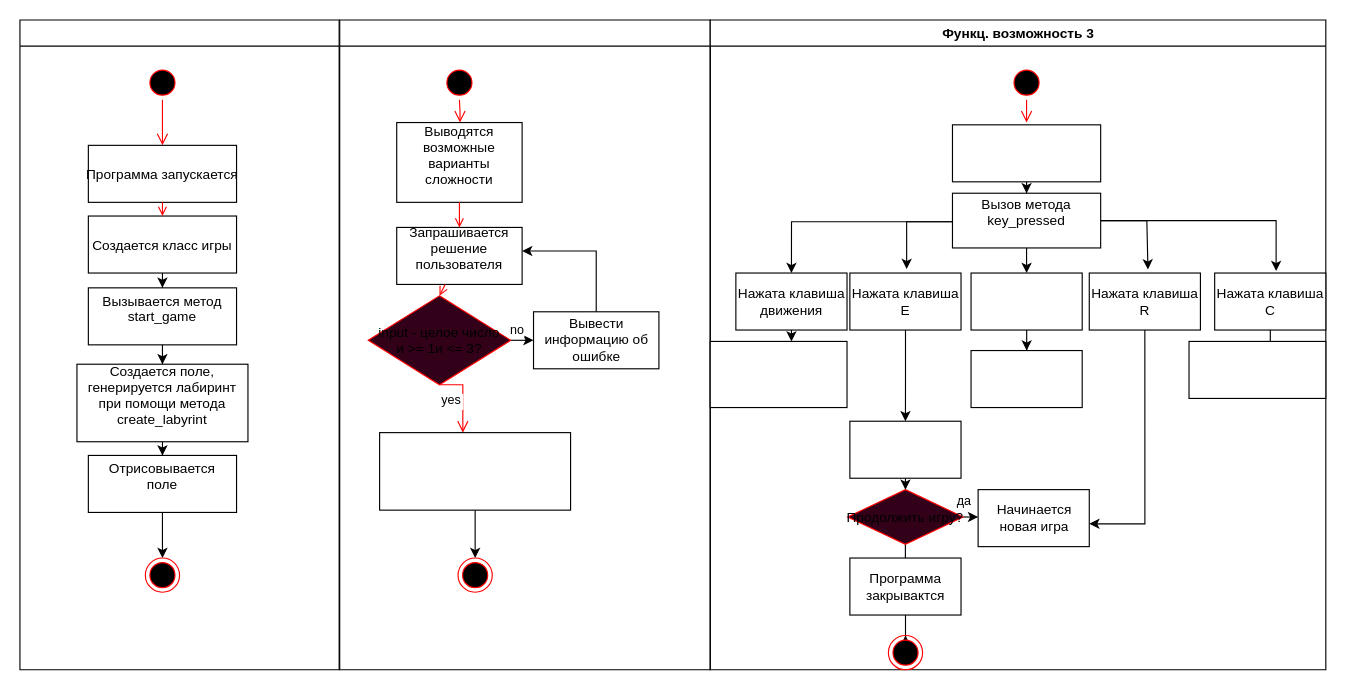
Image size: 1346x690. Some labels were removed from this diagram. Each missing label, with the box of its shape:
Включается след за игроком: (970, 349, 1082, 408)
Вызван метод click_{RIGHT | DOWN | UP | LEFT}: (709, 340, 847, 408)
Игра заканчивается: (849, 420, 961, 478)
Координаты игрока устанавливаются на начальные: (1188, 340, 1326, 398)
Нажата клавиша T: (970, 272, 1082, 330)
Нажатие на клавишу: (951, 124, 1101, 182)
Установить соответствующие показатели ширины и высоты поля: (378, 431, 571, 510)
Функц. возможность 1: (19, 19, 339, 670)
Функц. возможность 2: (339, 19, 710, 670)
